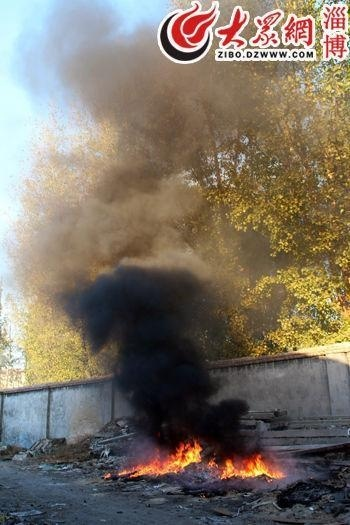fire: (112, 437, 280, 483)
